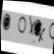correct: (0, 11, 13, 35)
no answer: (16, 15, 28, 36), (47, 20, 54, 42)
not correct: (26, 14, 47, 45)
